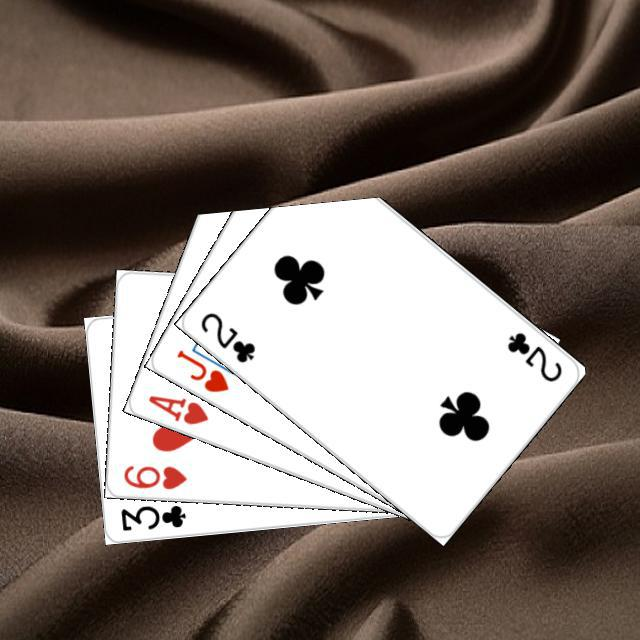2c: (195, 307, 257, 365), (502, 327, 564, 384)
3c: (116, 500, 188, 533)
6h: (118, 460, 189, 491)
Ah: (143, 390, 211, 427)
Jh: (171, 344, 231, 395)
